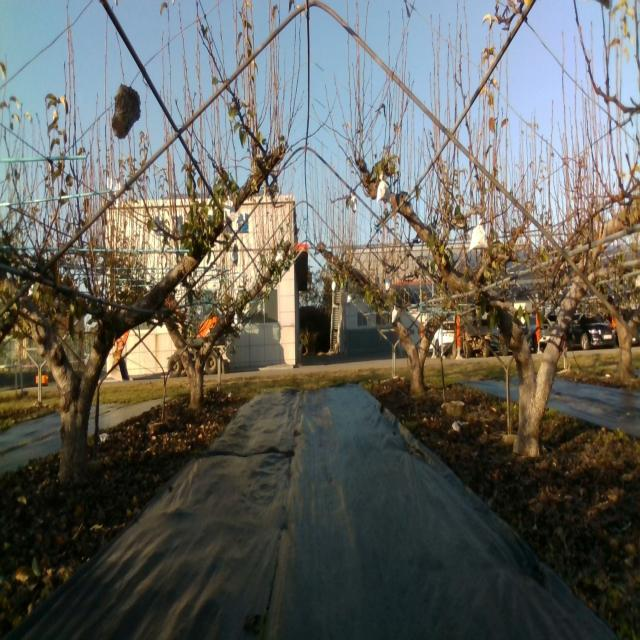pearbags: (469, 219, 488, 252), (376, 173, 391, 204), (223, 195, 236, 228)
